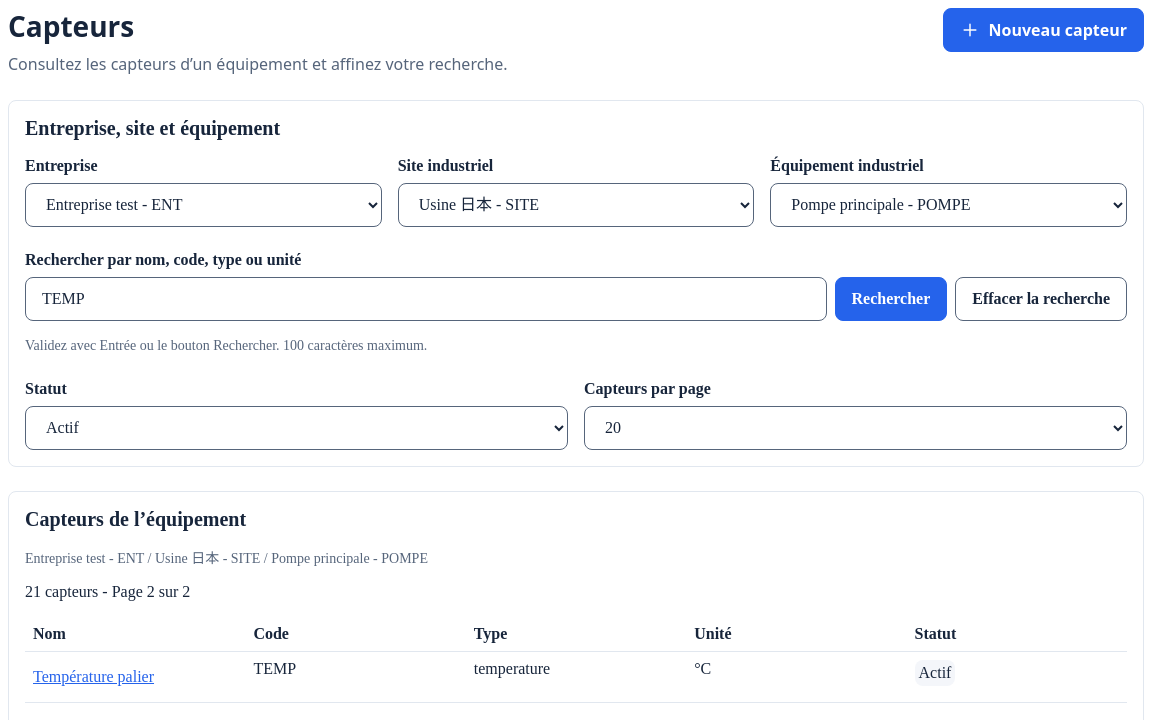
Sensors list, references and URL integration › opens the real detail from a paginated filtered list without changing its applied snapshot
Click the link with class "sensor-detail-link" at (94, 676), box [33, 668, 154, 685]
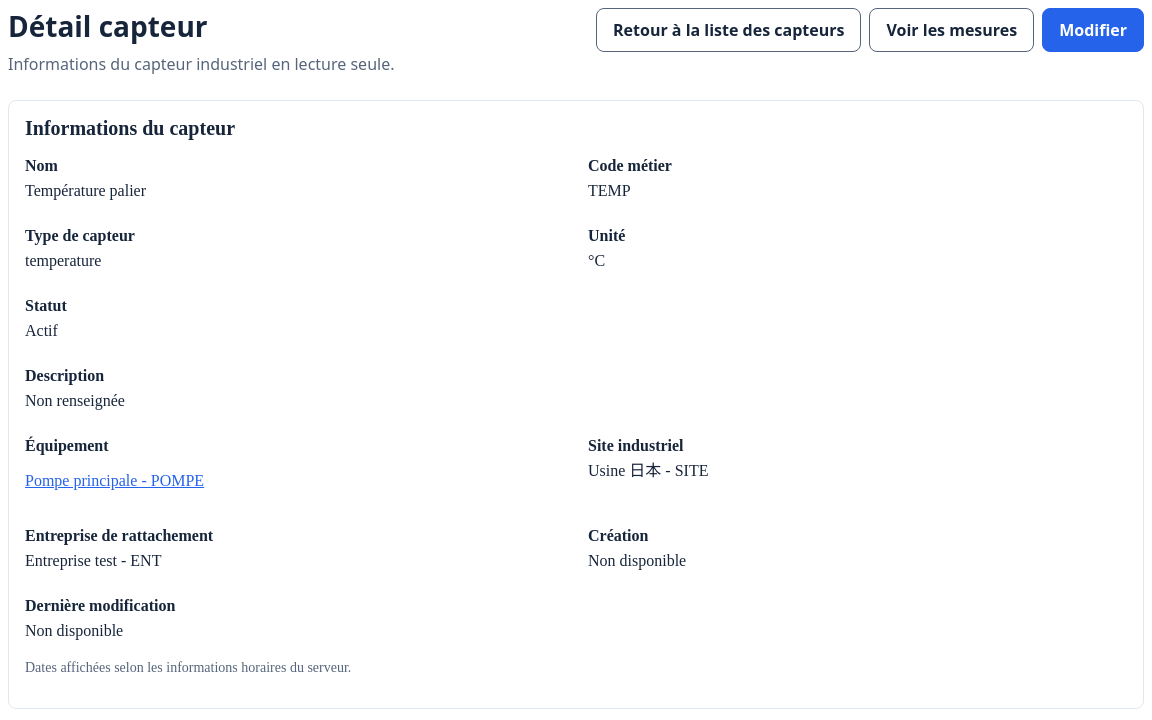
Check: the heading "Détail capteur" is shown, box [8, 7, 208, 45]
